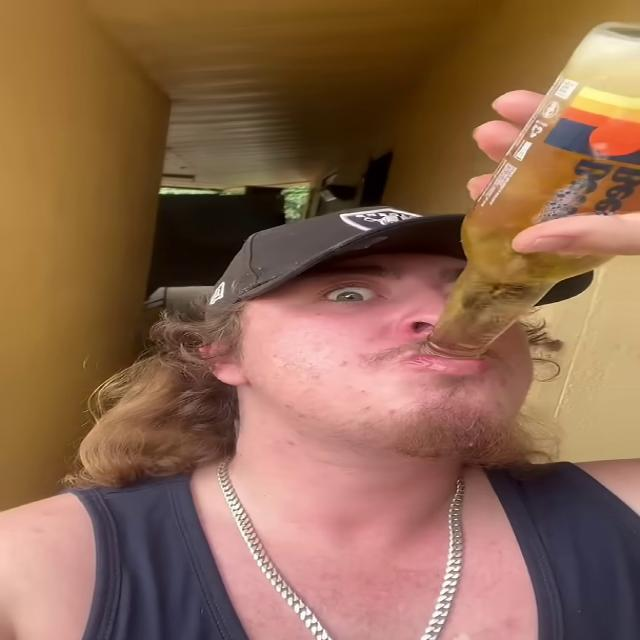Bottle: (420, 24, 639, 360)
Hand: (448, 80, 640, 264)
Mouth: (384, 341, 524, 380)
